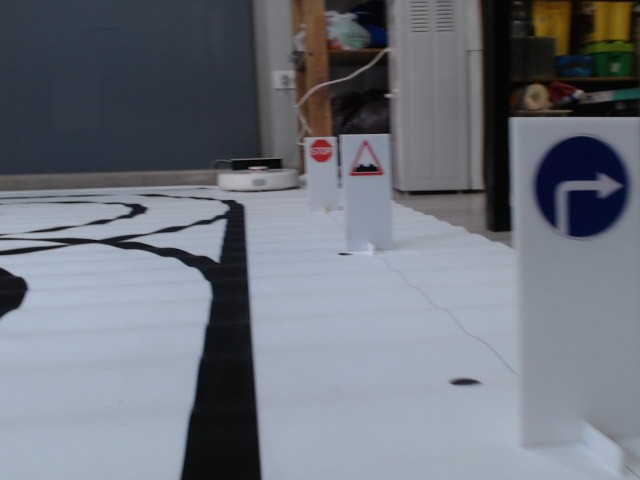Nerov: (348, 137, 384, 177)
Right: (533, 135, 630, 239)
Stop: (308, 138, 333, 163)
